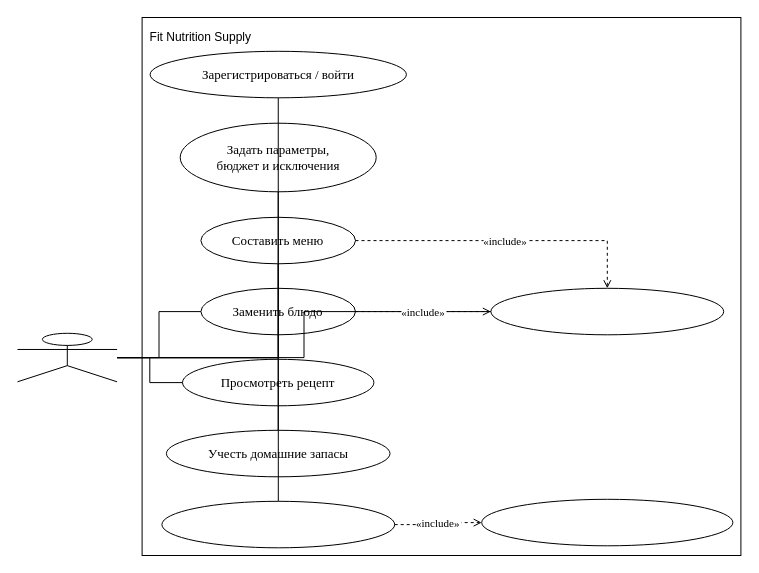
Image size: 759x573. Some labels were removed from this diagram. The box of each missing label's shape, as (x1, y1, x2, y2) in pixels:
Получить список покупок: (490, 287, 724, 335)
Пользователь (взрослый): (16, 332, 117, 382)
Рассчитать целые упаковки: (481, 498, 733, 546)
Сравнить полные корзины: (161, 500, 395, 548)
